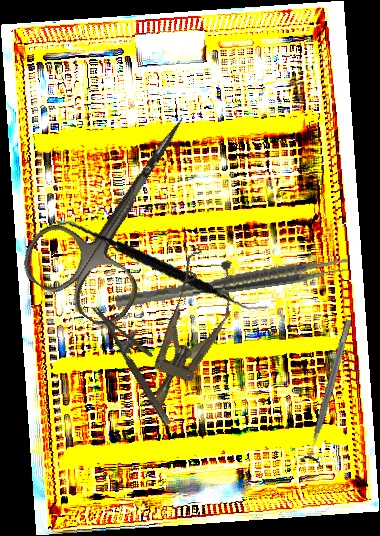Fixation Ring: (298, 316, 361, 468)
Iris Scissors: (12, 87, 234, 335)
Needle Holder: (92, 294, 188, 428)
Spatula Surgical: (46, 195, 271, 340)
Speculum: (129, 245, 248, 418)
Tissue Forceps: (113, 255, 351, 309)
